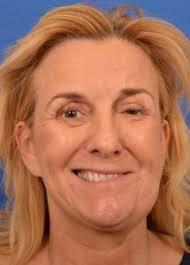strokeEyeSevere: (39, 81, 157, 129)
strokeMouthMid: (59, 160, 146, 190)
